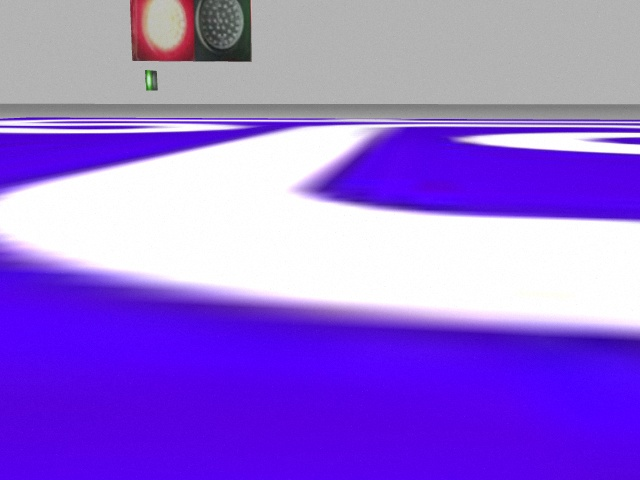red: (130, 2, 196, 58)
